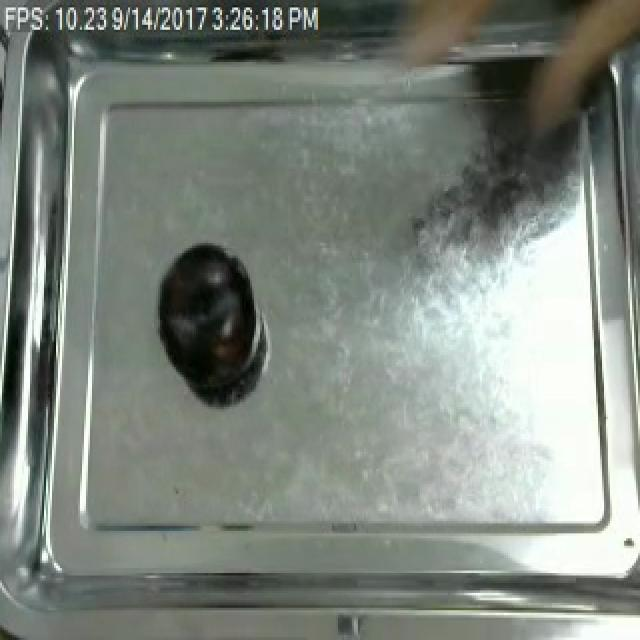Fruit: (152, 240, 260, 394)
